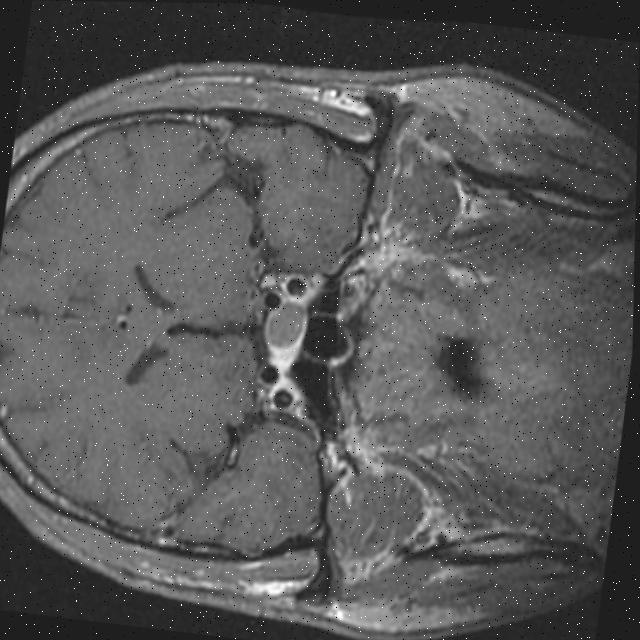Pituitary: (259, 295, 311, 370)
